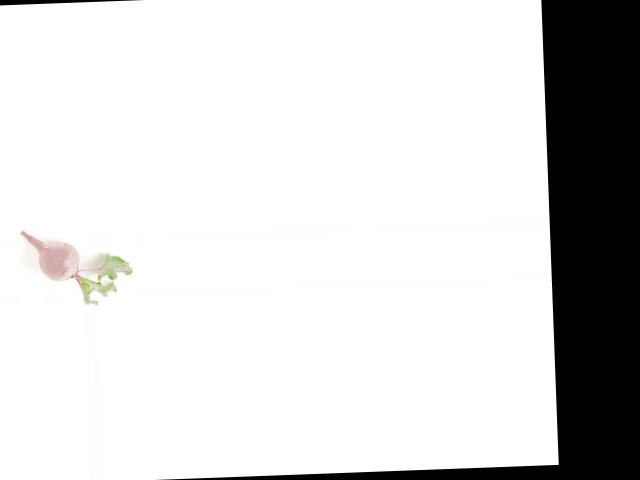beet: (21, 226, 134, 307)
